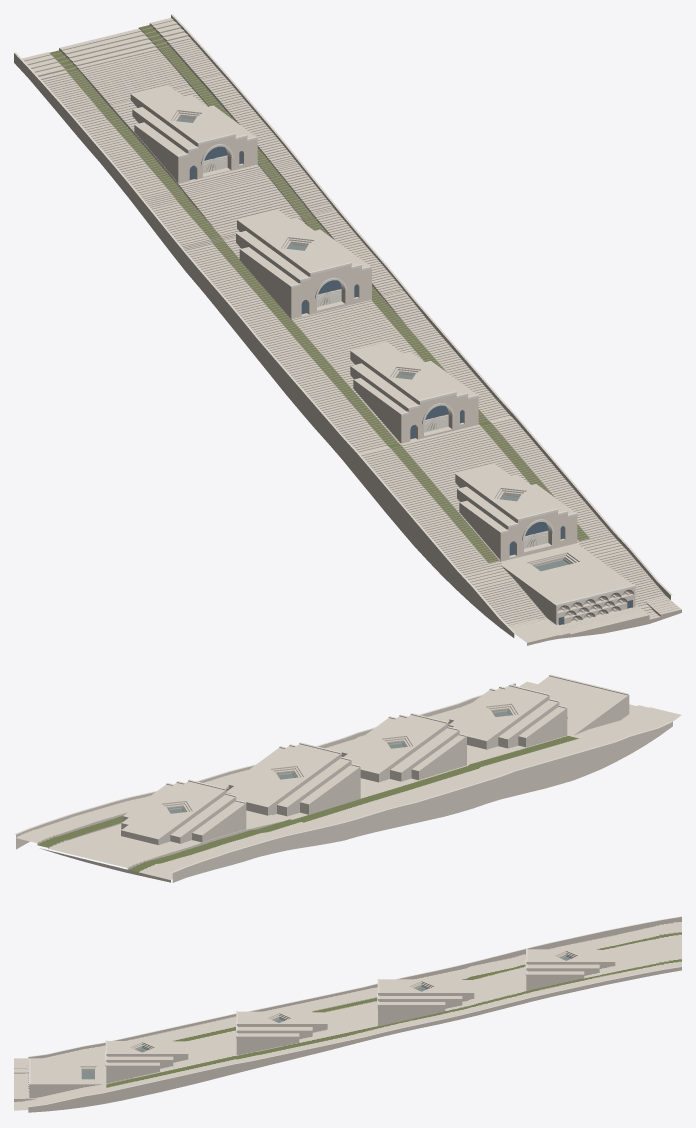
File: yerevan-cascade.detail.glb
3 views of the same model, one above another, from view 1: azimuth 30°, elevation 25°; view 2: azimuth 150°, elevation 25°; view 3: azimuth 270°, elevation 25° (orthographic). The views are drawn at different scales.
Visible parts, largest first — view 1: The Cascade; view 2: The Cascade; view 3: The Cascade.
Part boxes in pixels (x1=…): The Cascade: x1=14, y1=14, x2=681, y2=645; The Cascade: x1=14, y1=674, x2=681, y2=882; The Cascade: x1=14, y1=916, x2=681, y2=1112.
Size of the model in its own units: 50.7 by 69.38 by 283.
